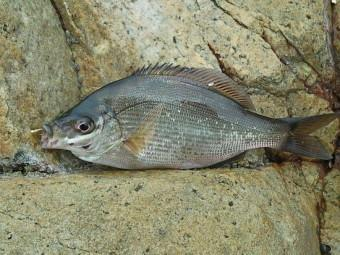fish: (40, 63, 339, 168)
